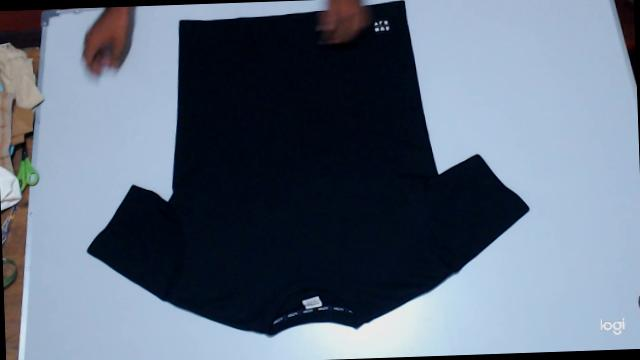new-garment: (88, 2, 528, 335)
